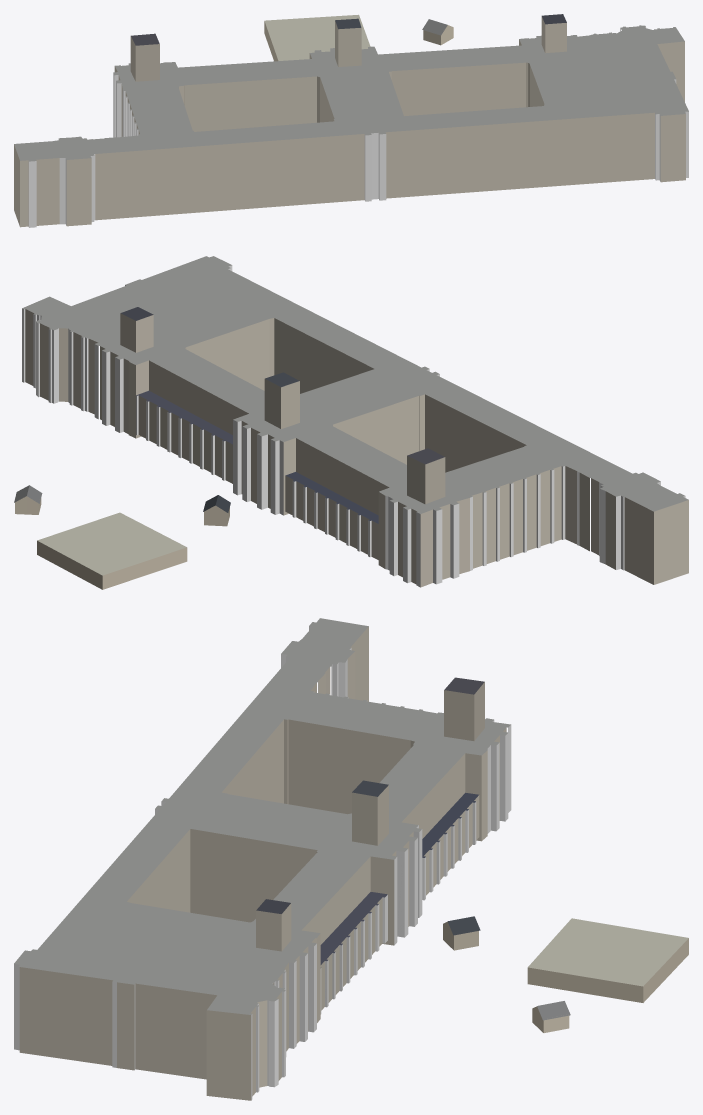
The picture shows the model from 3 angles, top to bottom: view 1: azimuth 30°, elevation 25°; view 2: azimuth 150°, elevation 25°; view 3: azimuth 270°, elevation 25°; orthographic projection. The views are drawn at different scales.
Parts seen in each view (by area): view 1: tuile; view 2: tuile; view 3: tuile.
Boxes of the visible parts, bbox=[...] form: tuile: bbox=[14, 14, 688, 227]; tuile: bbox=[14, 256, 688, 589]; tuile: bbox=[14, 618, 688, 1100].
Size of the model in its own units: 275 by 45.57 by 197.
